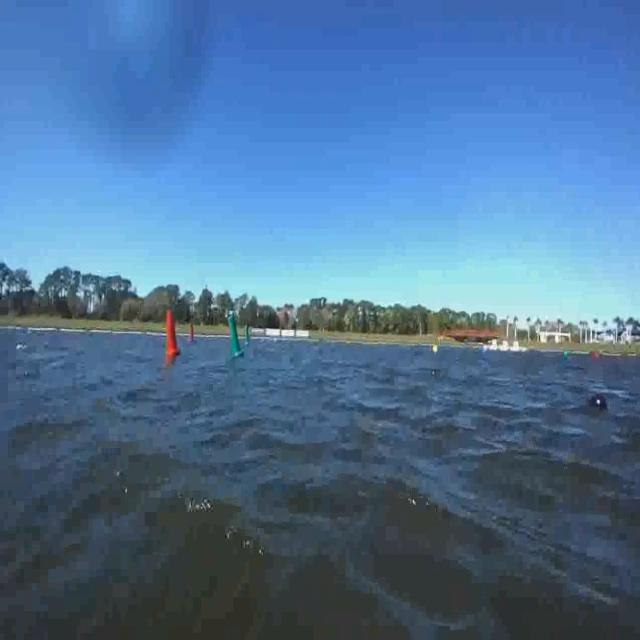blue-buoy: (587, 388, 609, 414)
green-column-buoy: (228, 316, 244, 362), (242, 328, 248, 346)
red-column-buoy: (164, 312, 179, 358), (188, 325, 195, 344)
yellow-buoy: (431, 343, 439, 355)
